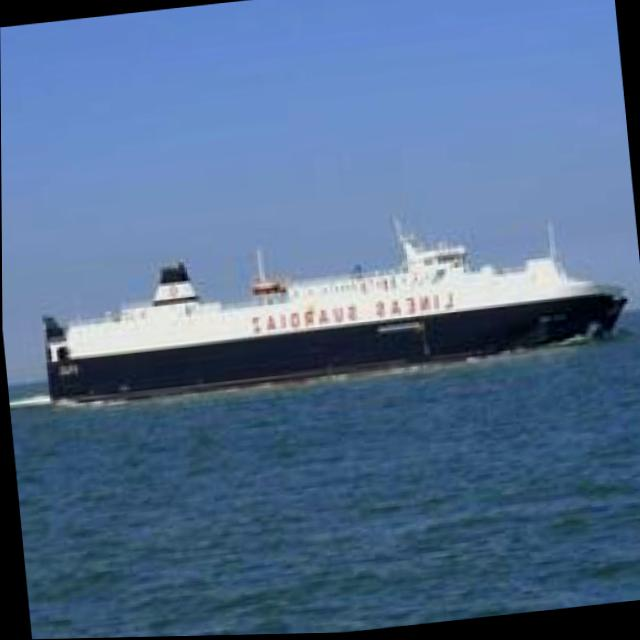ship2: (40, 214, 628, 405)
